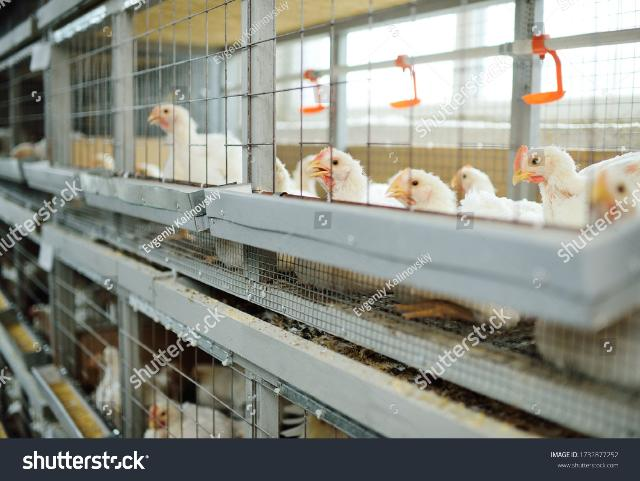Chicken: (148, 104, 246, 187), (511, 144, 590, 229), (306, 143, 372, 208), (383, 167, 459, 216), (447, 161, 499, 217)
